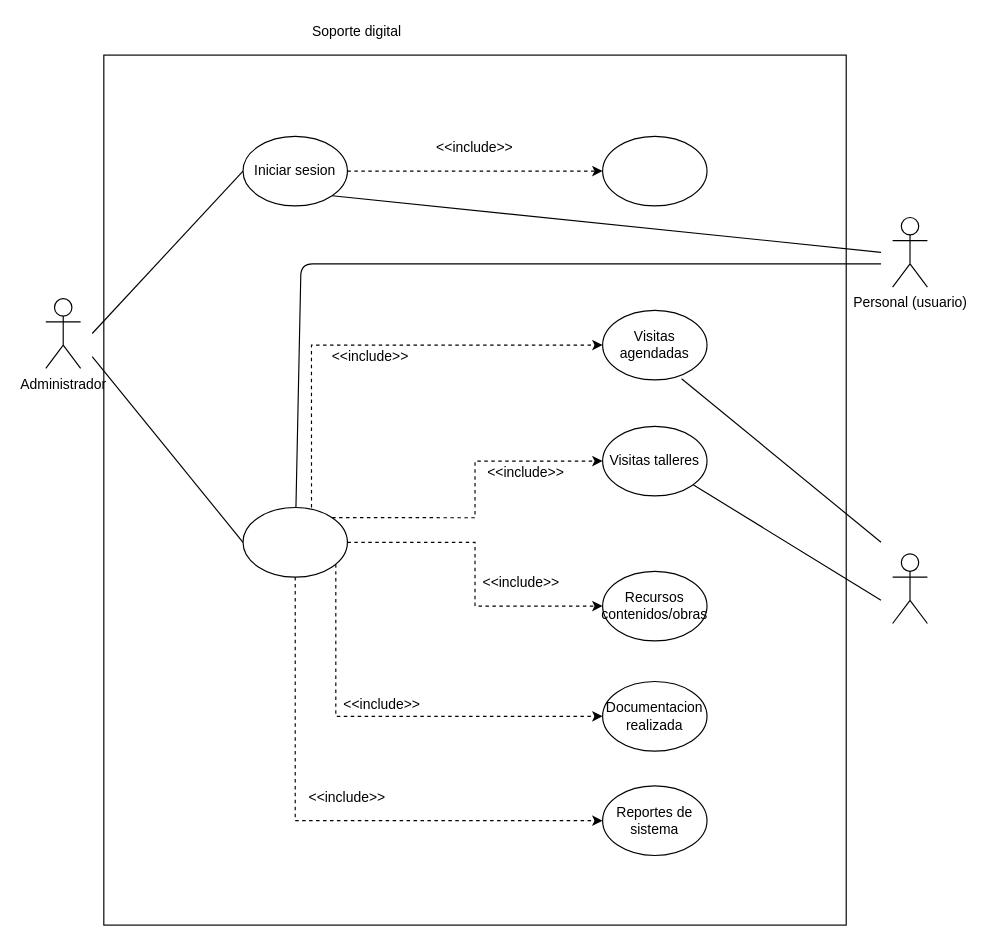
Image size: 986x945. Some labels were removed from this diagram. The centre of each missing label's shape, as x and y in pixels:
"Identificar y autentificar usuario" belongs at [654,170].
"Previsualizar" belongs at [294,541].
"Usuario (natural)" belongs at [909,588].
